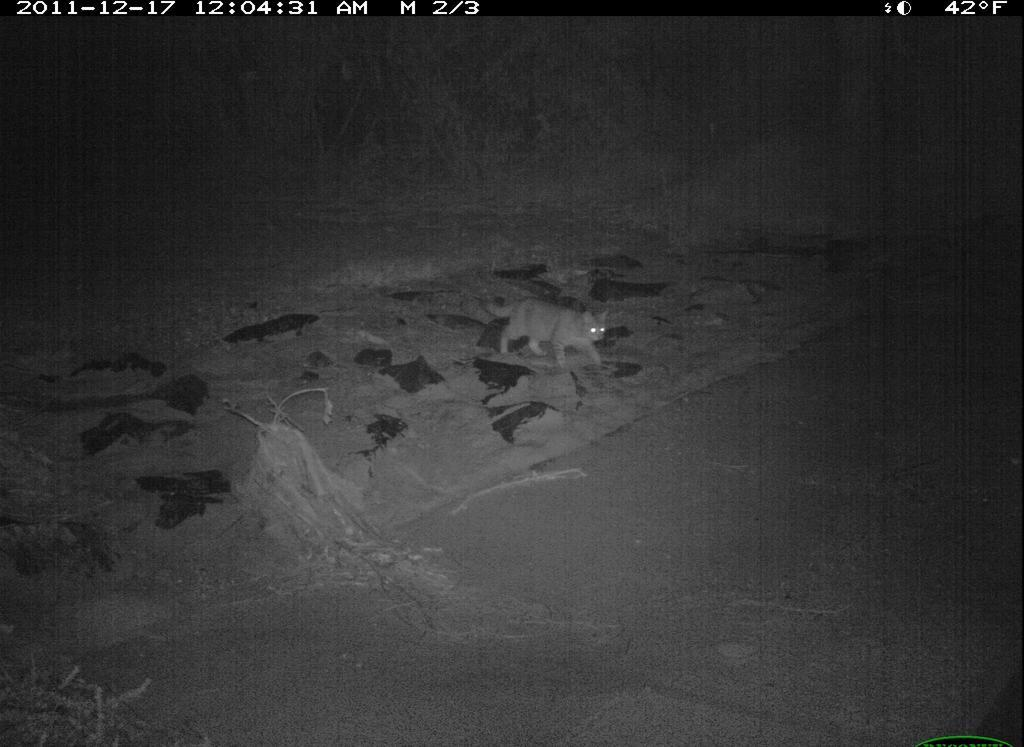cat: (478, 290, 624, 379)
